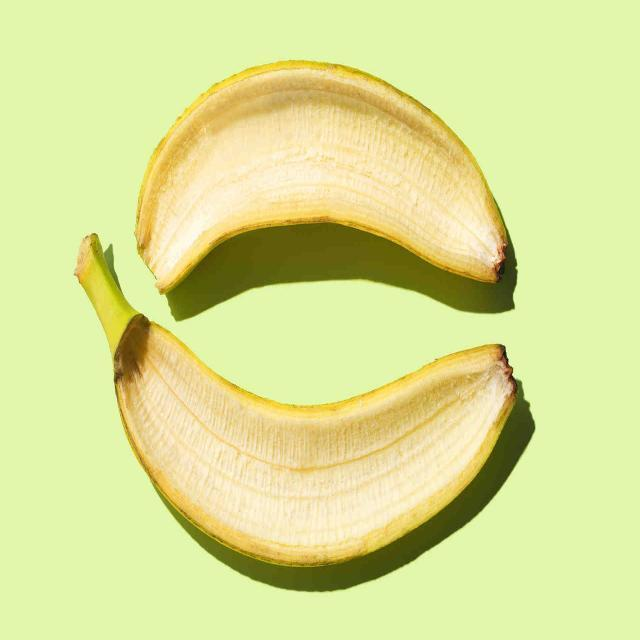banana-peel: (72, 231, 518, 568), (133, 57, 510, 295)
